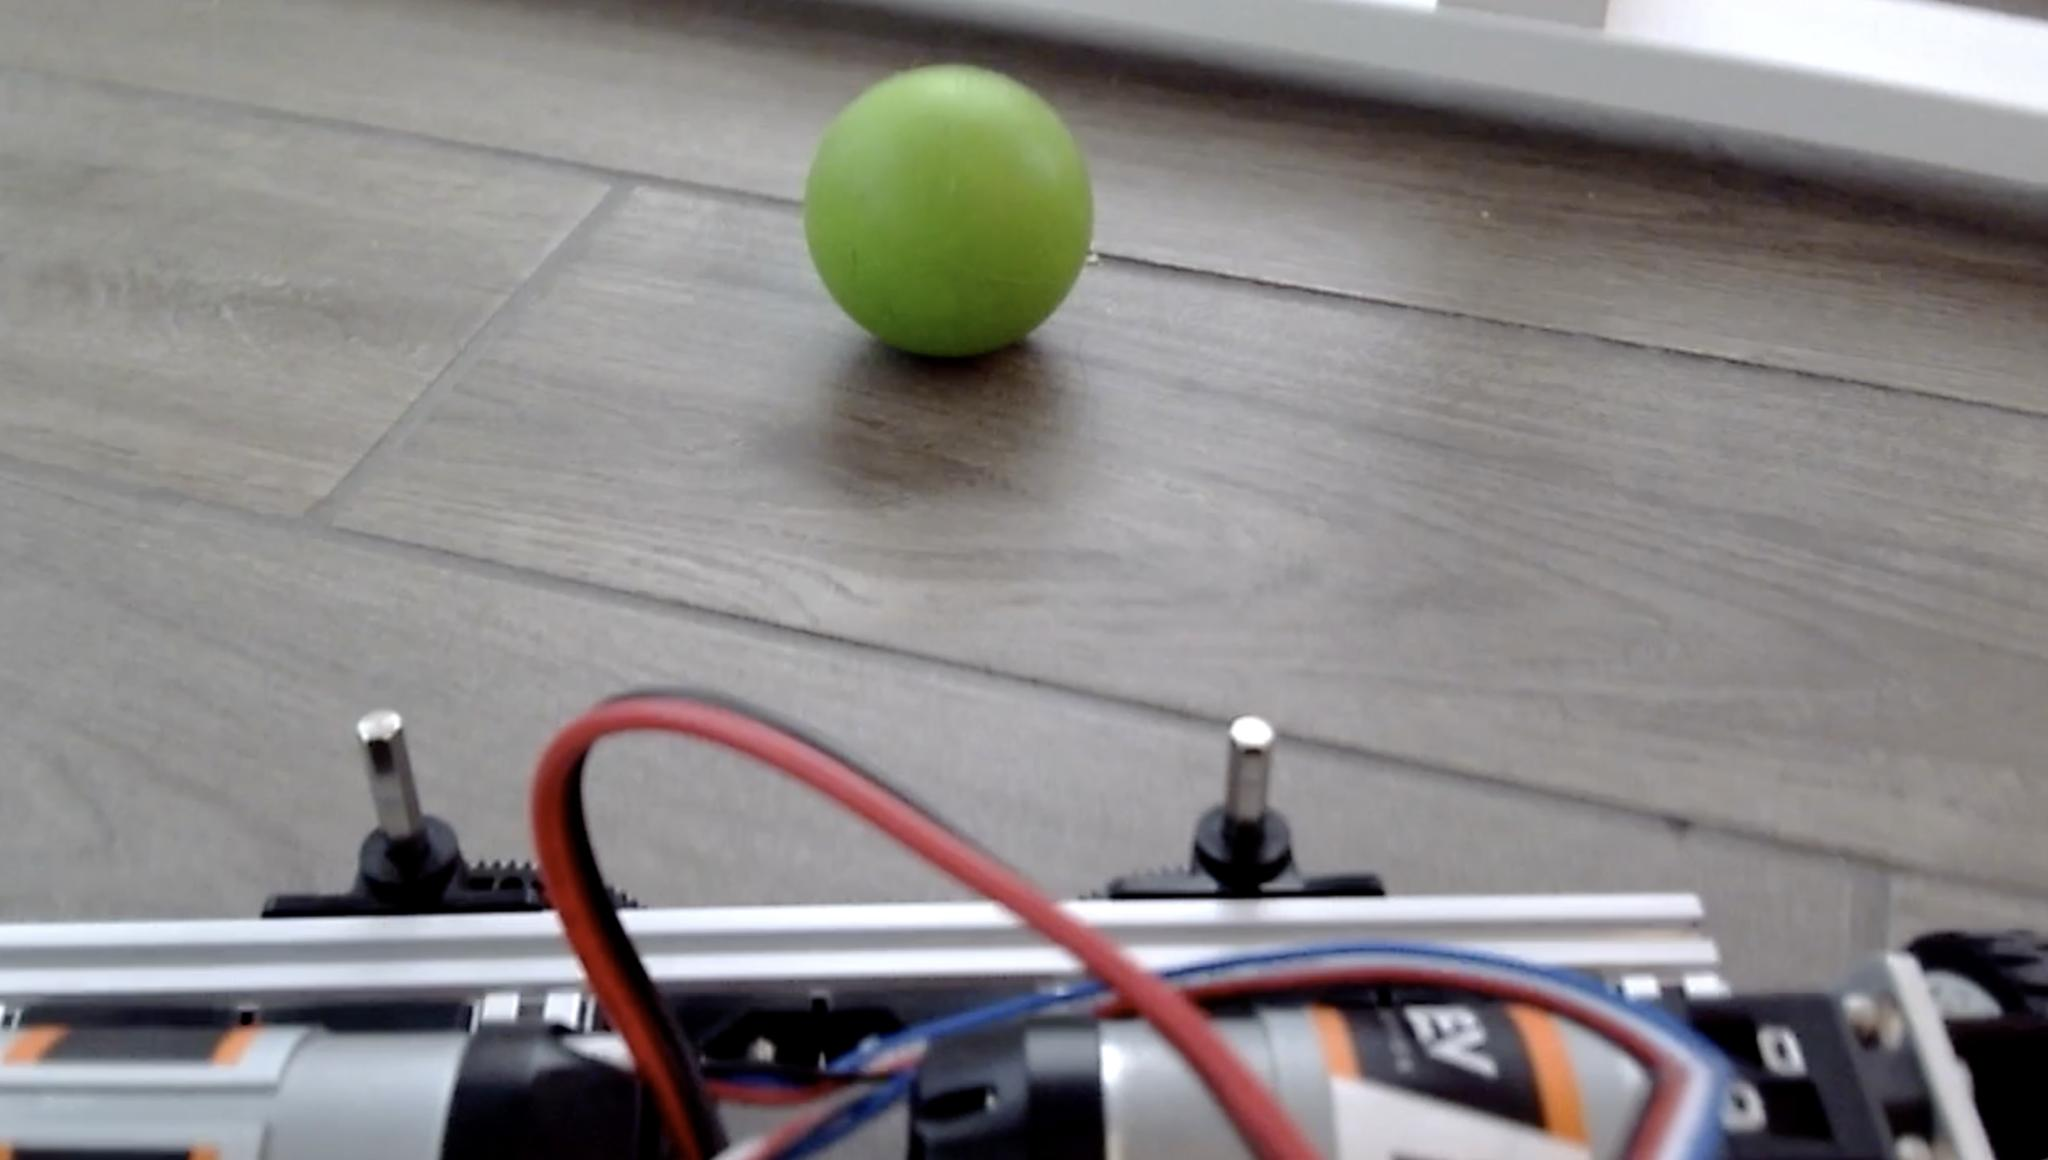greenball: (802, 60, 1094, 360)
